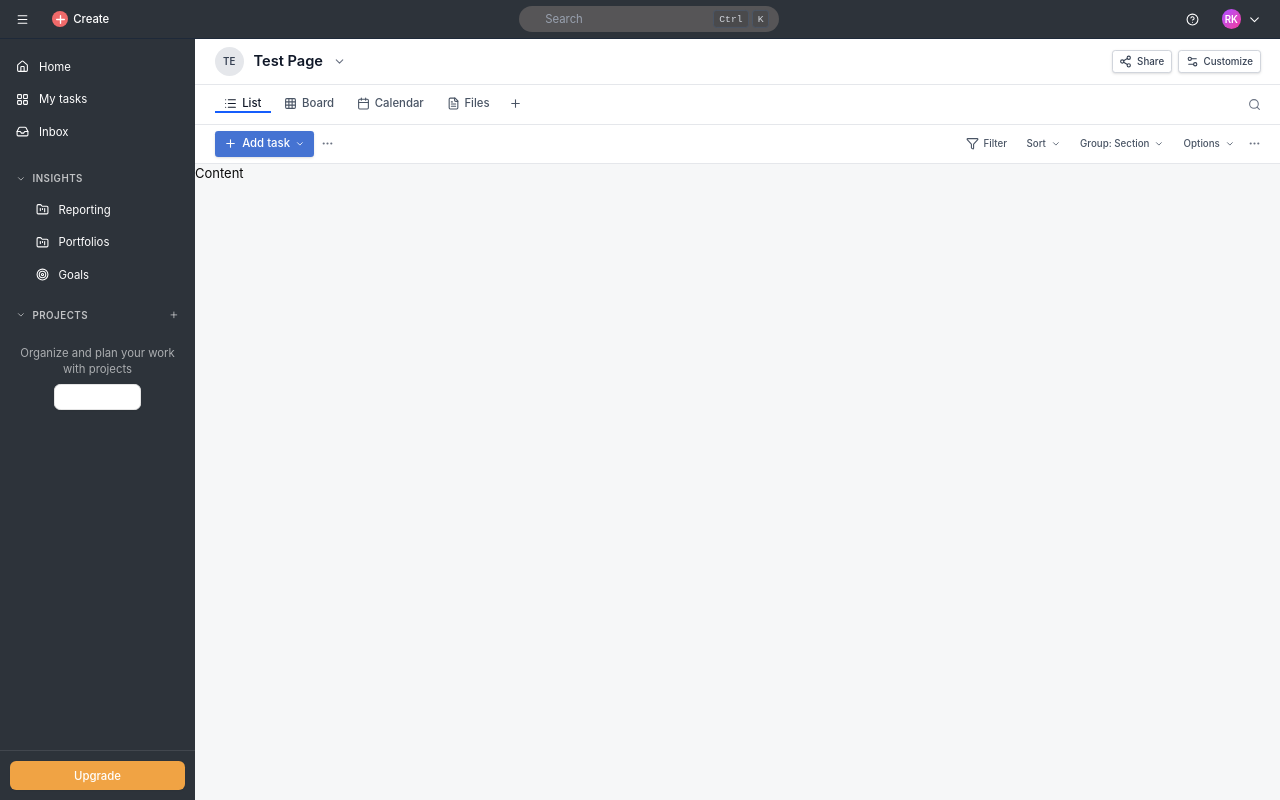
Test: Navigation Integration Tests › should maintain sidebar state across interactions
Note: Collapse insights section
Click the button with test id "insights-toggle": (98, 179) [6,166,188,192]
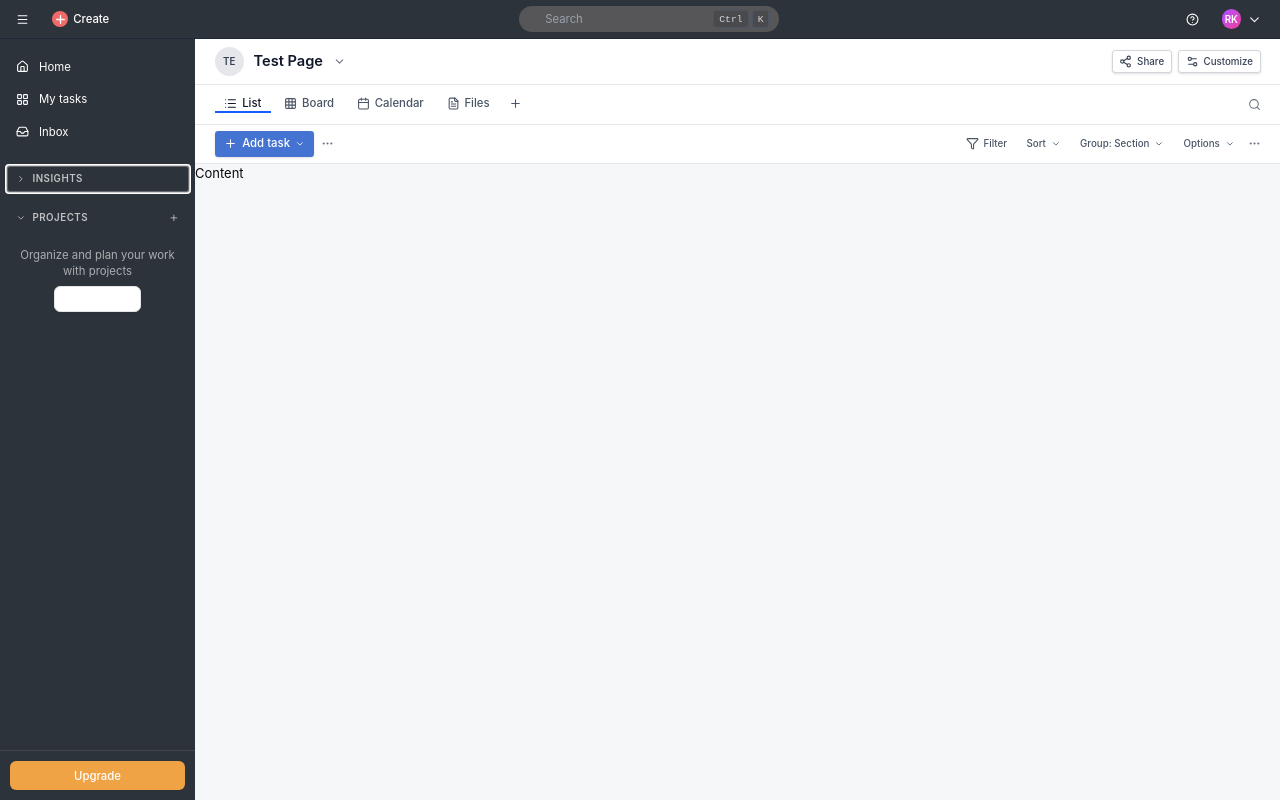
Now the link with test id "nav-reporting" is gone
Note: Collapse projects section
Click the button with test id "projects-toggle": (98, 218) [6,205,188,231]
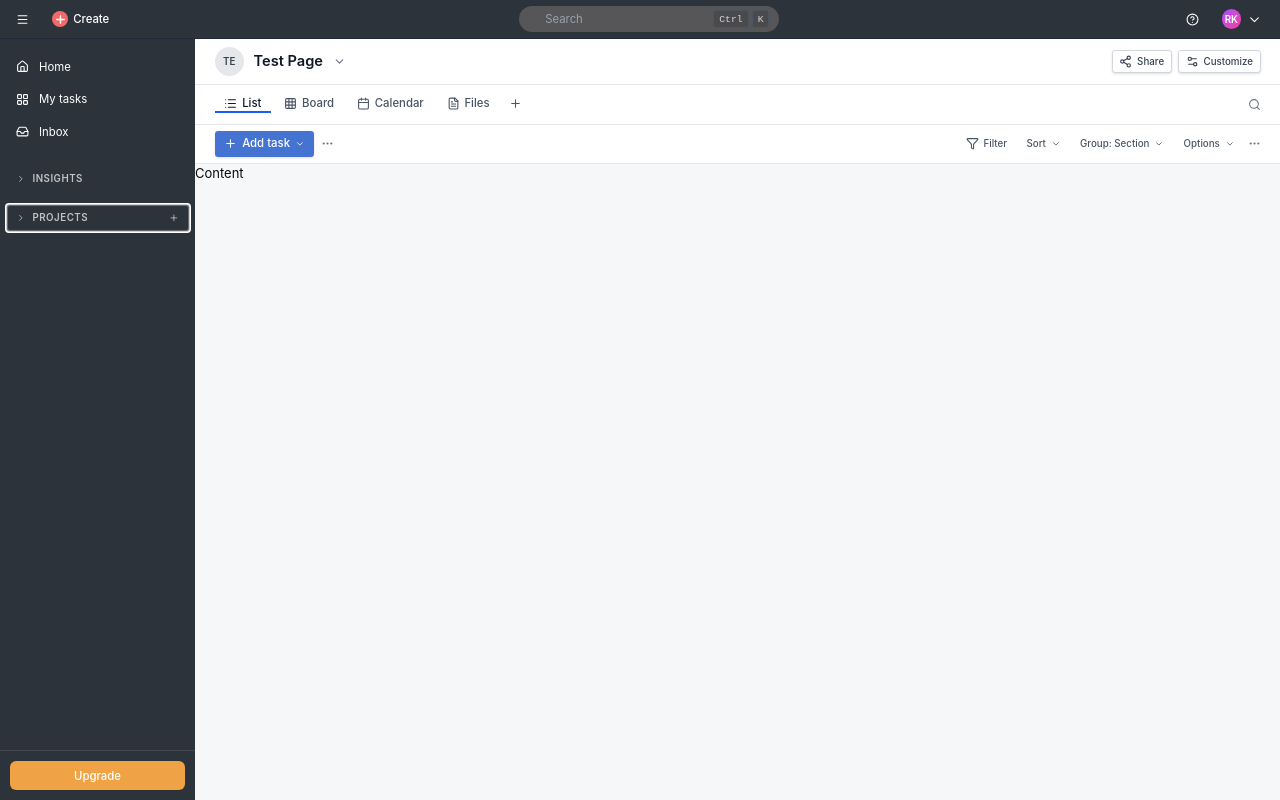
Now the button with test id "new-project-button" is gone
